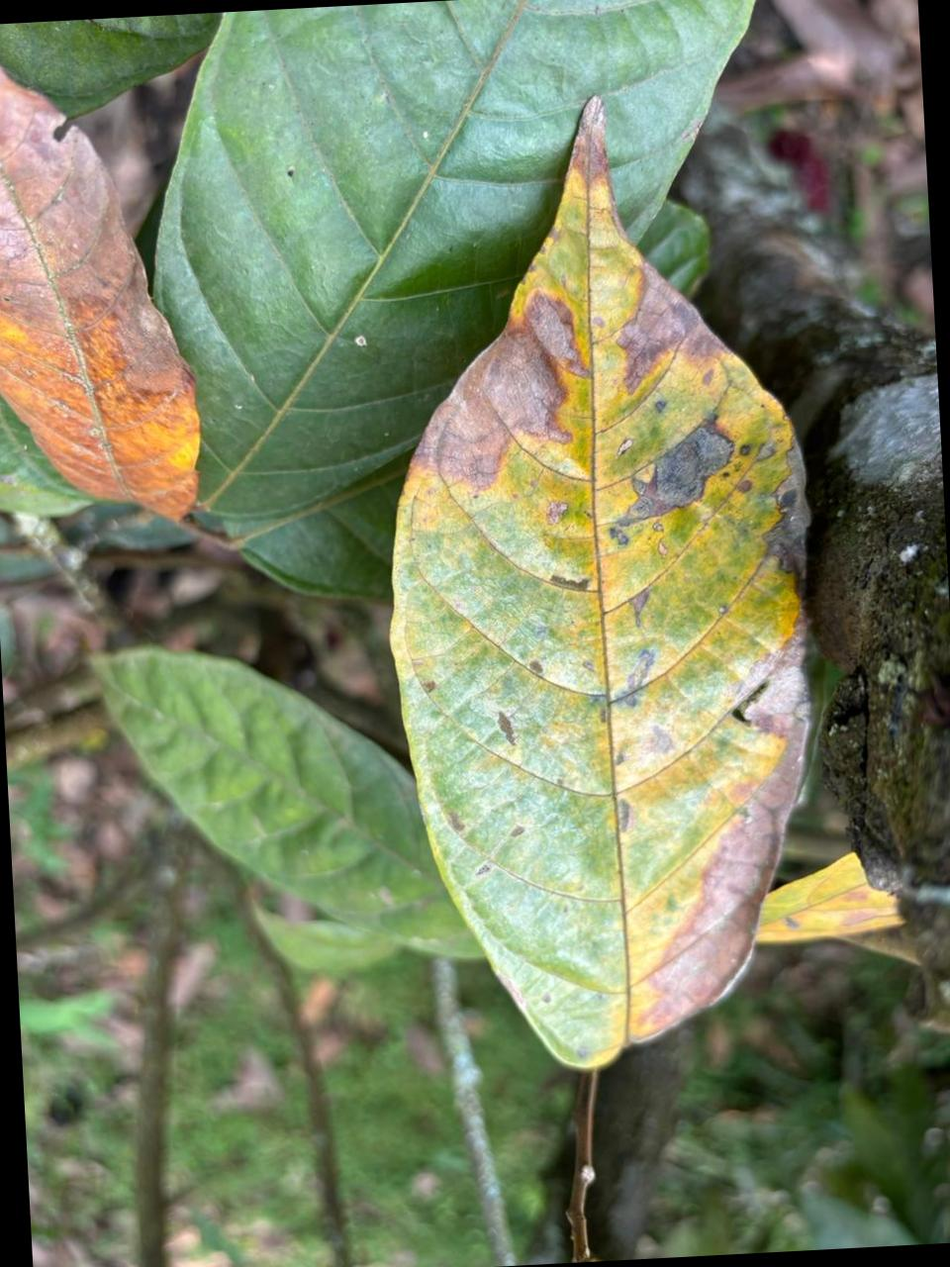Fosforo: (391, 96, 809, 1069), (0, 68, 200, 519)
